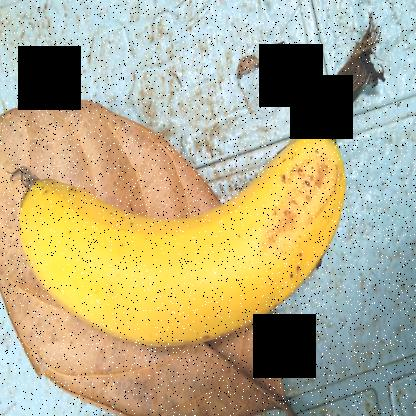freshripe: (12, 117, 350, 355)
